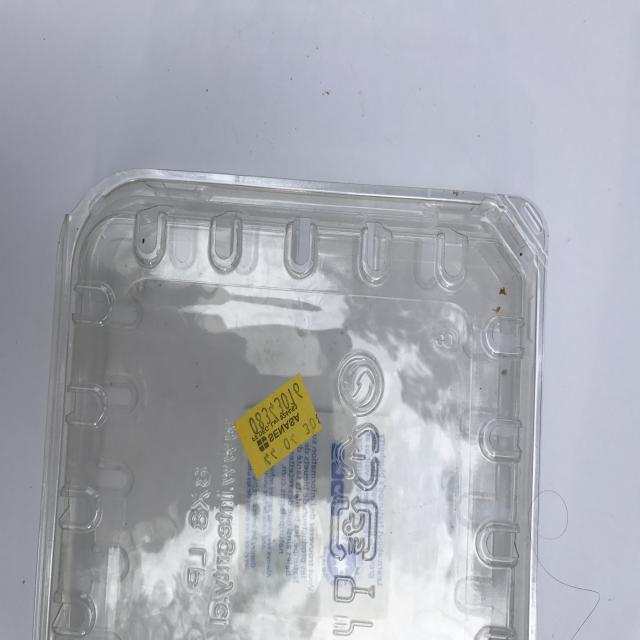plastic: (36, 169, 548, 640)
